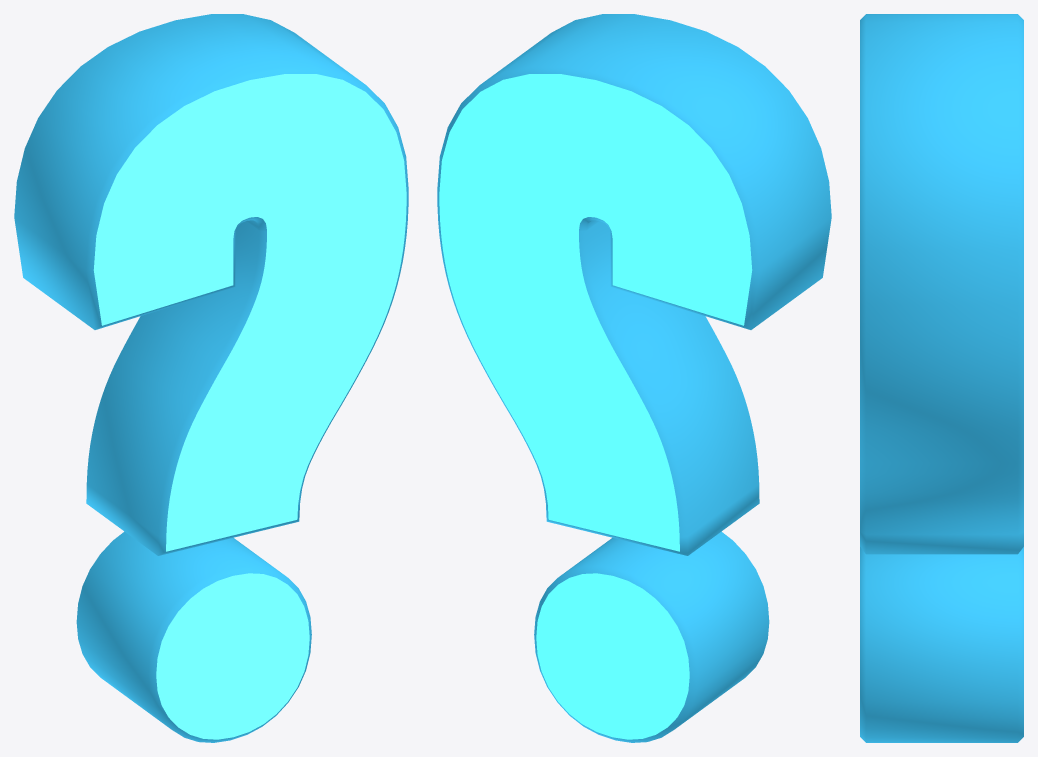
3 views of the same model, side by side, from view 1: azimuth 30°, elevation 25°; view 2: azimuth 150°, elevation 25°; view 3: azimuth 270°, elevation 25° (orthographic). The views are drawn at different scales.
Visible parts, largest first — view 1: glyph; view 2: glyph; view 3: glyph.
Part boxes in pixels (x1,y1,x2,y2): glyph: (14, 14, 408, 742); glyph: (437, 14, 831, 742); glyph: (860, 14, 1023, 742).
Size of the model in its own units: 0.039 by 0.0766 by 0.0162.
